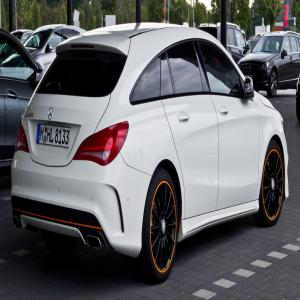Vehicle-registration-plate: (43, 119, 69, 155)
